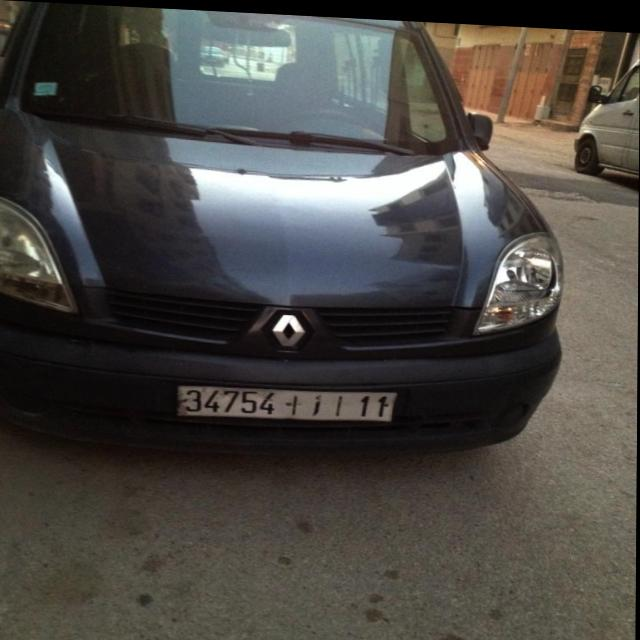License-Plate: (178, 383, 398, 418)
